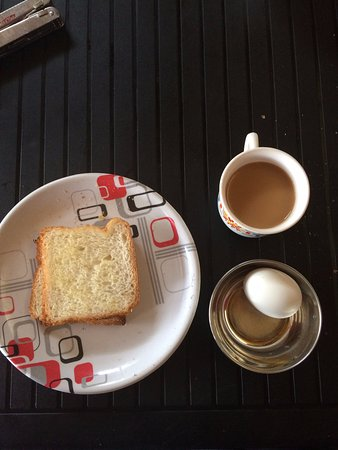glass of water: (210, 261, 325, 378)
slice of bread: (34, 230, 133, 318)
